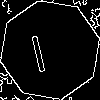I: (25, 25, 49, 73)
